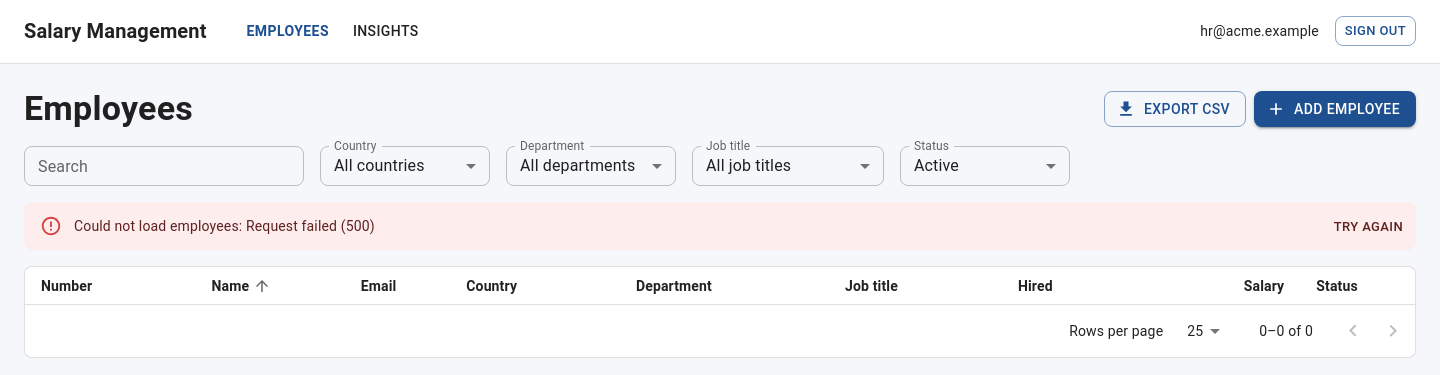
the employee directory › what it shows › reports a failure to load, and loads again on request
Expected: the message shows "Could not load employees: Request failed (500)", x1=24 y1=202 x2=1416 y2=250
Click the button "Try again": (1368, 227) x1=1329 y1=212 x2=1408 y2=243
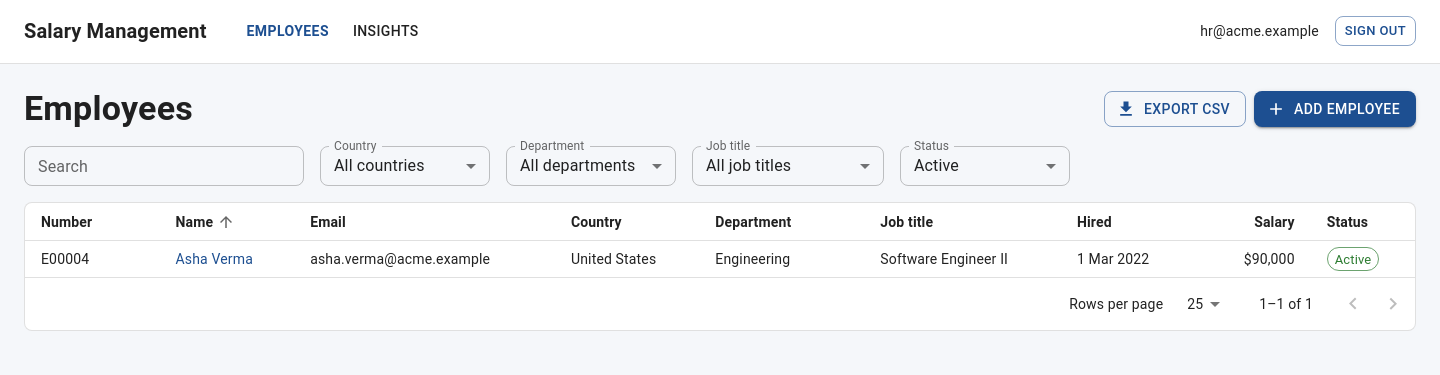
Expected: the link "Asha Verma" is shown, x1=176 y1=251 x2=253 y2=267
